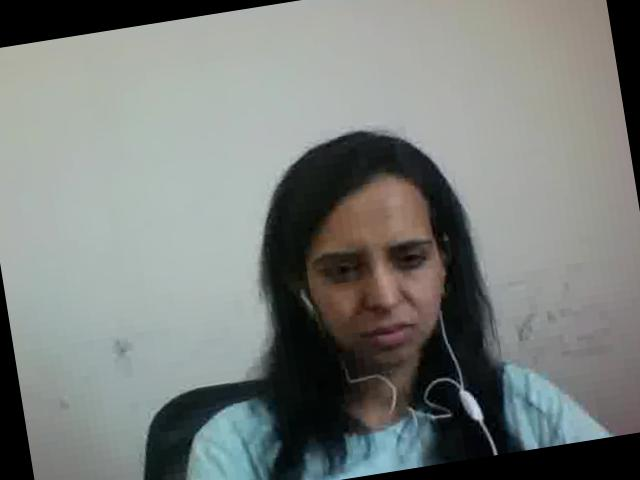bingung: (289, 182, 452, 380)
